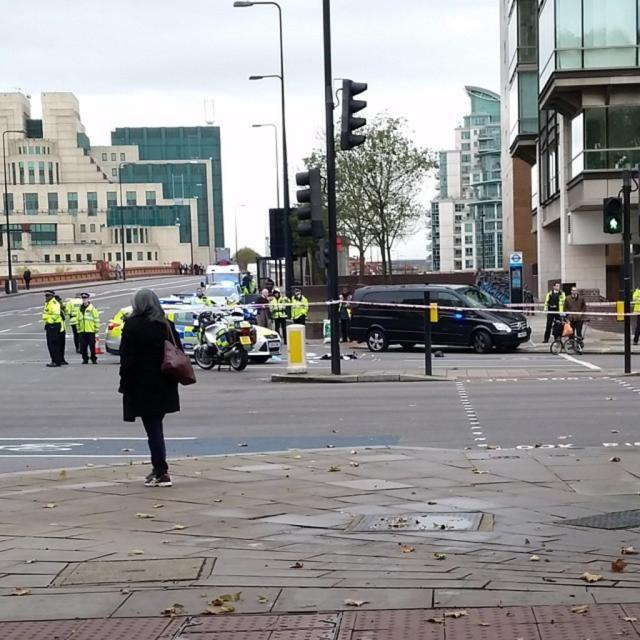off traffic light: (341, 75, 367, 149), (296, 165, 319, 239)
traffic light: (601, 196, 623, 235)
